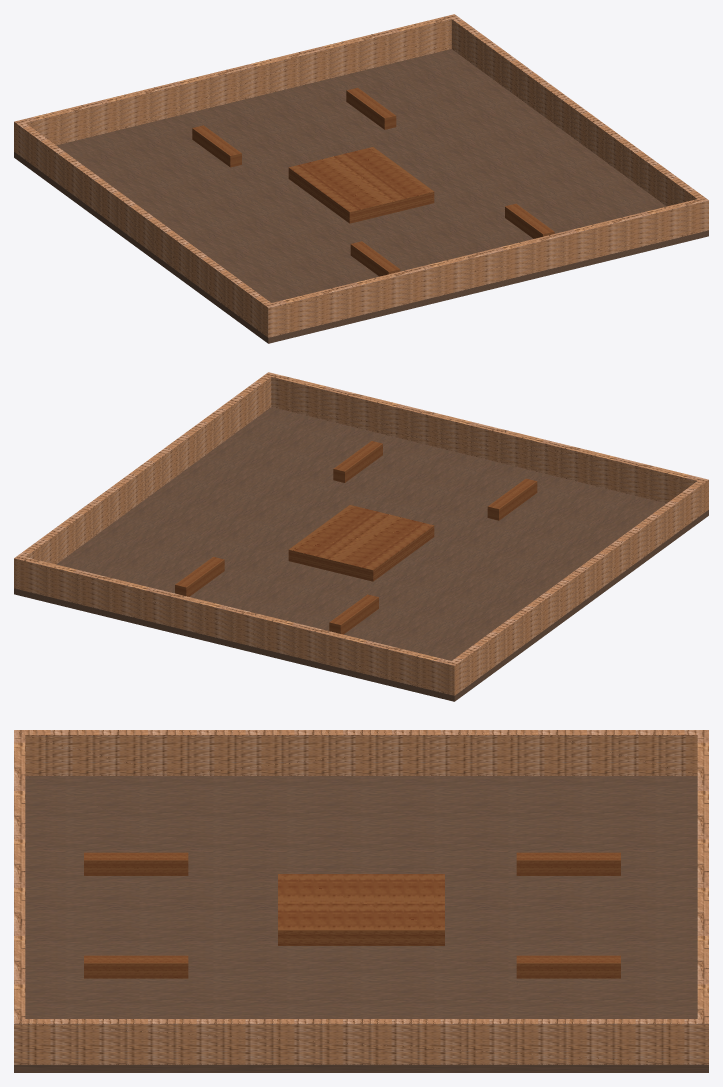
File: map1test.glb
3 renders of one model, top to bottom at view 1: azimuth 30°, elevation 25°; view 2: azimuth 150°, elevation 25°; view 3: azimuth 270°, elevation 25°, orthographic. The views are drawn at different scales.
Visible parts, largest first — view 1: collision_, collision_.001, collision_.006, collision_.004, collision_.003, collision_.002, collision_.005; view 2: collision_, collision_.001, collision_.006, collision_.002, collision_.005, collision_.003, collision_.004; view 3: collision_, collision_.001, collision_.006, collision_.002, collision_.003, collision_.004, collision_.005.
Part boxes in pixels (x1,y1,x2,y2): collision_: (14, 49, 708, 343); collision_.001: (14, 14, 708, 337); collision_.006: (288, 147, 434, 223); collision_.004: (346, 87, 396, 129); collision_.003: (192, 125, 241, 167); collision_.002: (350, 241, 400, 276); collision_.005: (505, 203, 554, 238); collision_: (14, 407, 708, 701); collision_.001: (14, 372, 708, 695); collision_.006: (288, 505, 434, 581); collision_.002: (487, 478, 537, 520); collision_.005: (333, 441, 382, 482); collision_.003: (329, 594, 378, 634); collision_.004: (175, 557, 224, 596); collision_: (14, 776, 708, 1072); collision_.001: (14, 730, 708, 1064); collision_.006: (278, 874, 444, 945); collision_.002: (84, 852, 188, 875); collision_.003: (516, 852, 620, 875); collision_.004: (516, 955, 620, 978); collision_.005: (84, 955, 188, 978).
Bounding box in the file's own units: 77.11 × 6.02 × 77.11.
Materials: 3 (3 with a texture image).
